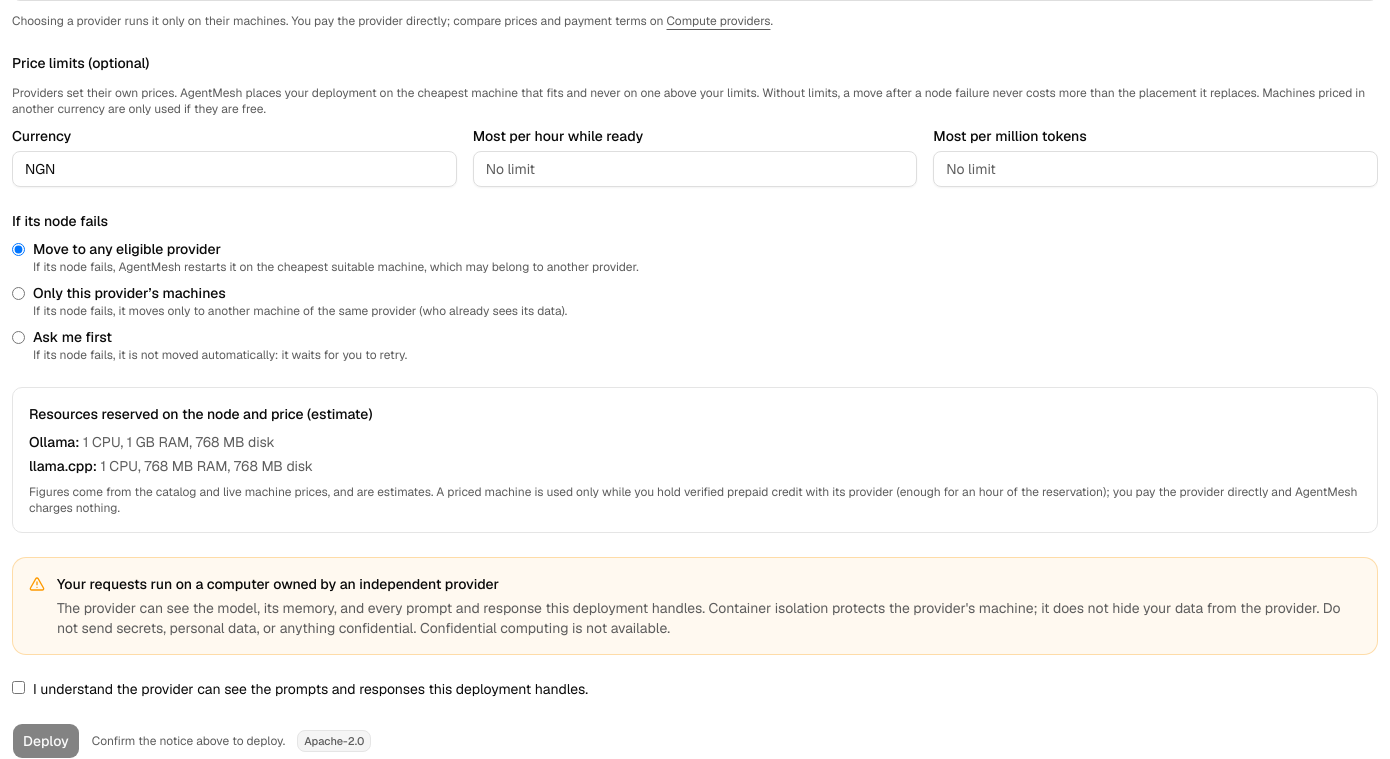
Scenario: requires the trust acknowledgement before deploying
(page scrolled)
Expected: the button "Deploy" is disabled, [12,723,80,758]
Expected: the text "provider can see the model, its memory, and every prompt" is shown, [57,599,1341,637]
Click the checkbox labelled "I understand the provider can see". click: (18, 688)
box: [12,681,25,694]
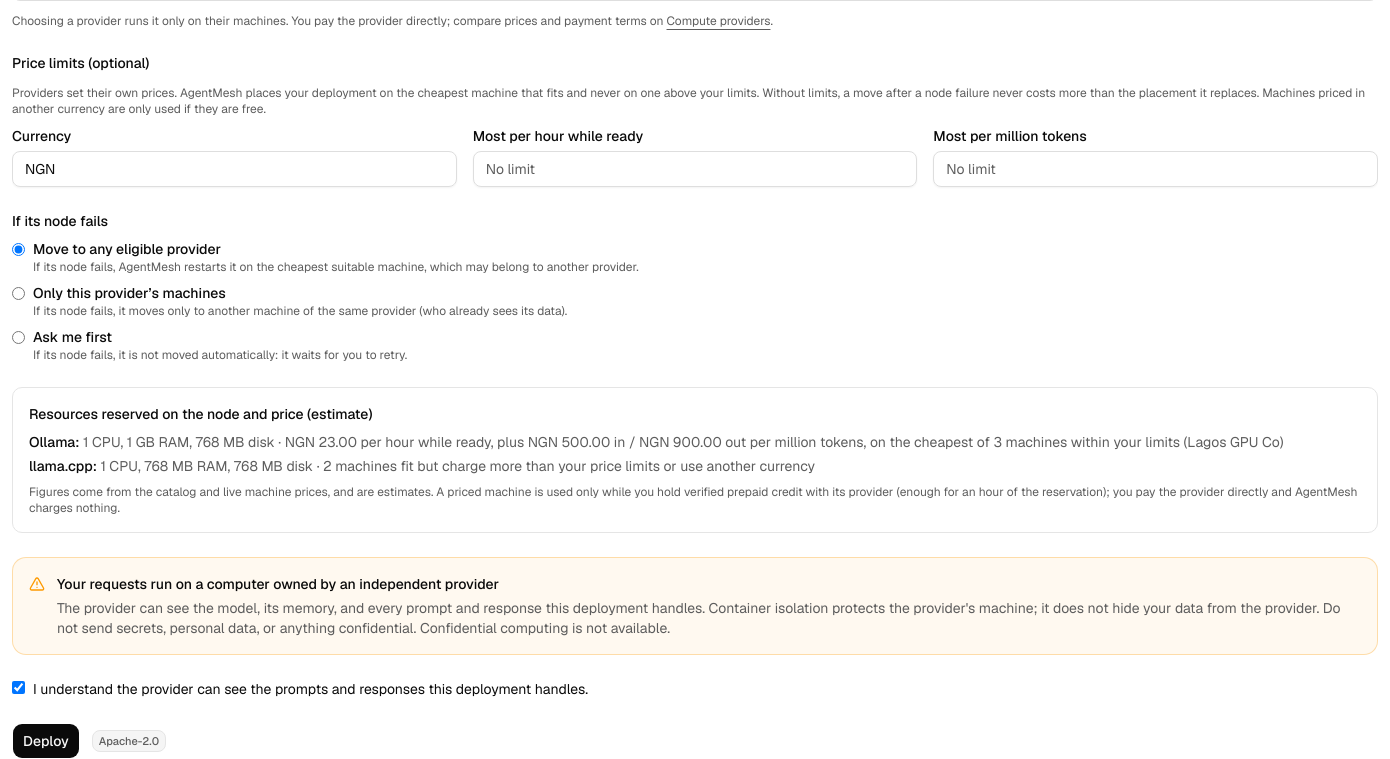
Expected: the button "Deploy" is enabled, [12,723,80,758]
